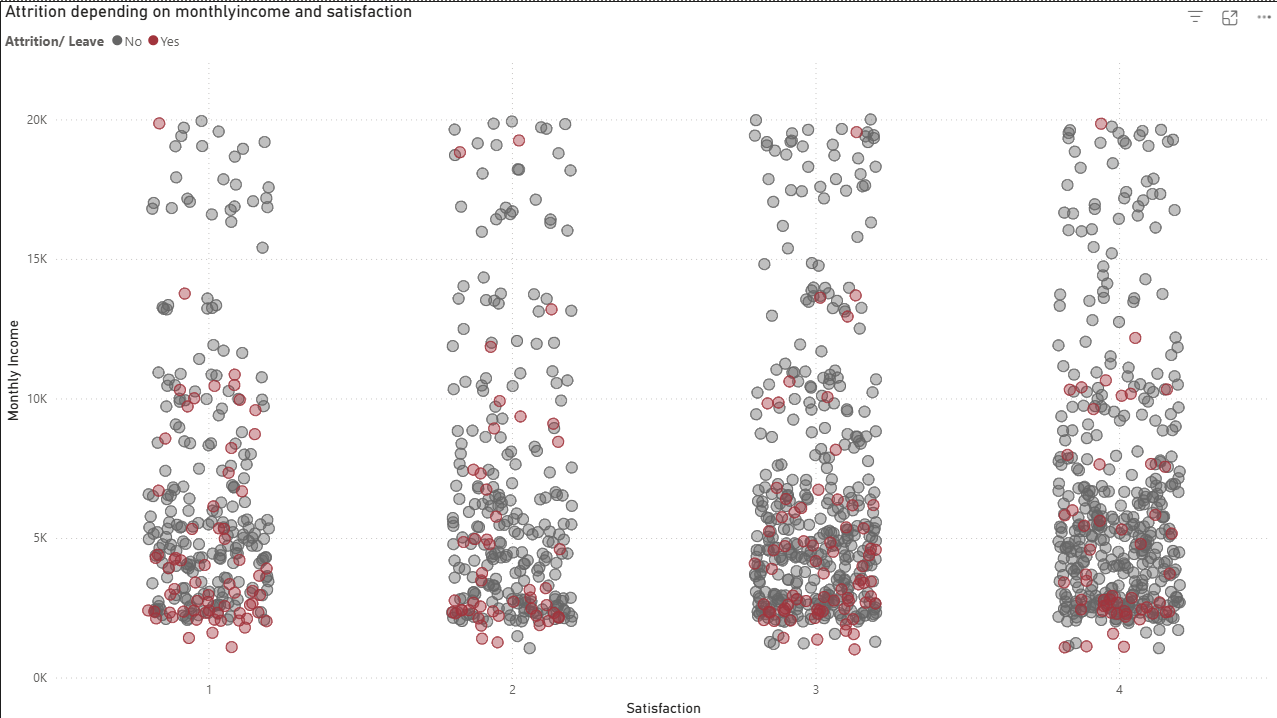

Layout of this report page (visuals, bound fields, positions):
{"tool":"powerbi","page":{"name":"Satisfaction/ Salaire/ attrition","canvas":[1280,720],"ordinal":3},"visuals":[{"type":"scatterChart","title":"Attrition depending on monthlyincome and satisfaction","fields":{"Category":["Rh_analytics.EmployeeNumber"],"Y":["Sum(Rh_analytics.MonthlyIncome)"],"X":["Sum(Rh_analytics.Satisfaction_jitter)"],"Series":["Rh_analytics.Attrition/ Leave"]},"box":[0,0,1280,720.3],"z":0}]}

Visuals, with their boxes on the page's 1280x720 design canvas (x1, y1, x2, y2). These are canvas units, not pixel positions in the 1277x718 screenshot, which may show the page scaled, cropped or inside an application window:
"Attrition depending on monthlyincome and satisfaction" scatterChart: (x1=0, y1=0, x2=1280, y2=720)
